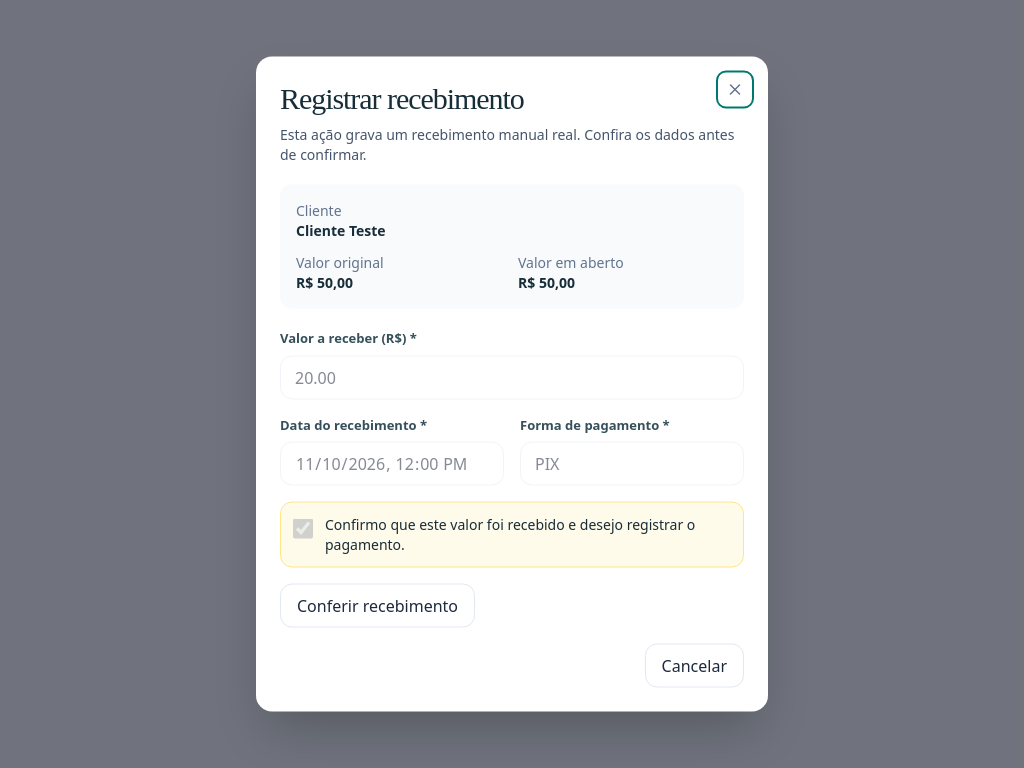
Test: recuperação segura do recebimento › exige persistência disponível também antes de repetir uma tentativa recuperada
Step 1. Click the button "Conferir recebimento" → {"x": 378, "y": 606}, box [280,584,475,628]
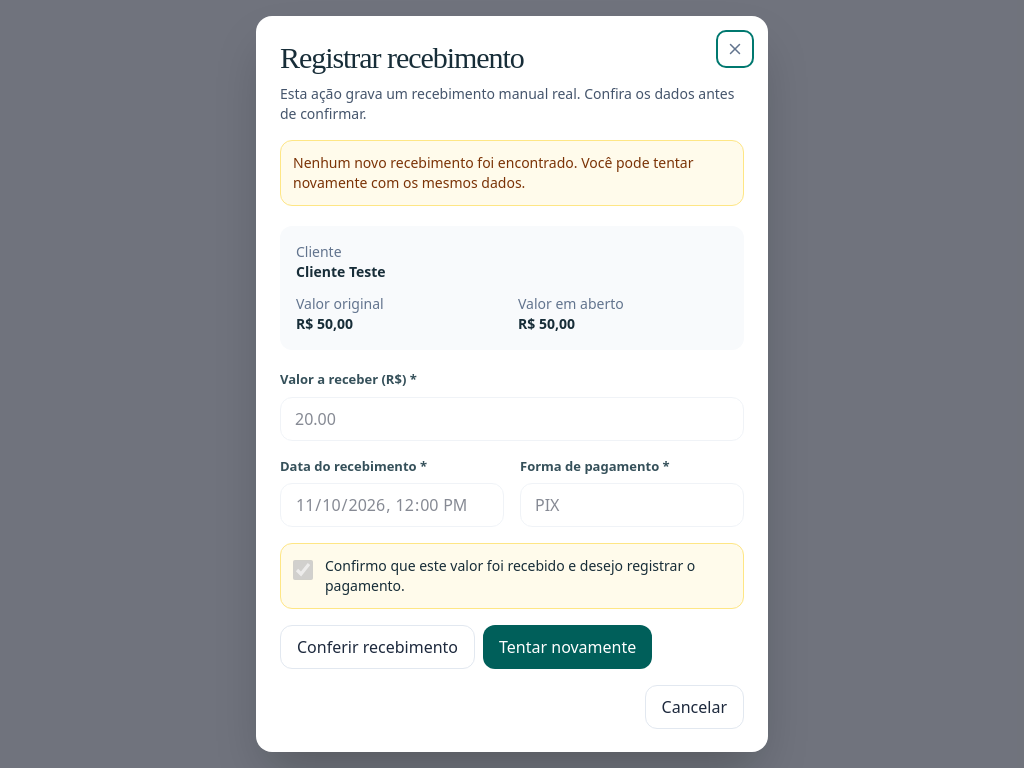
Expected: the button "Tentar novamente" is shown
Step 2. Click the button "Tentar novamente" → {"x": 568, "y": 647}, box [483,625,652,669]
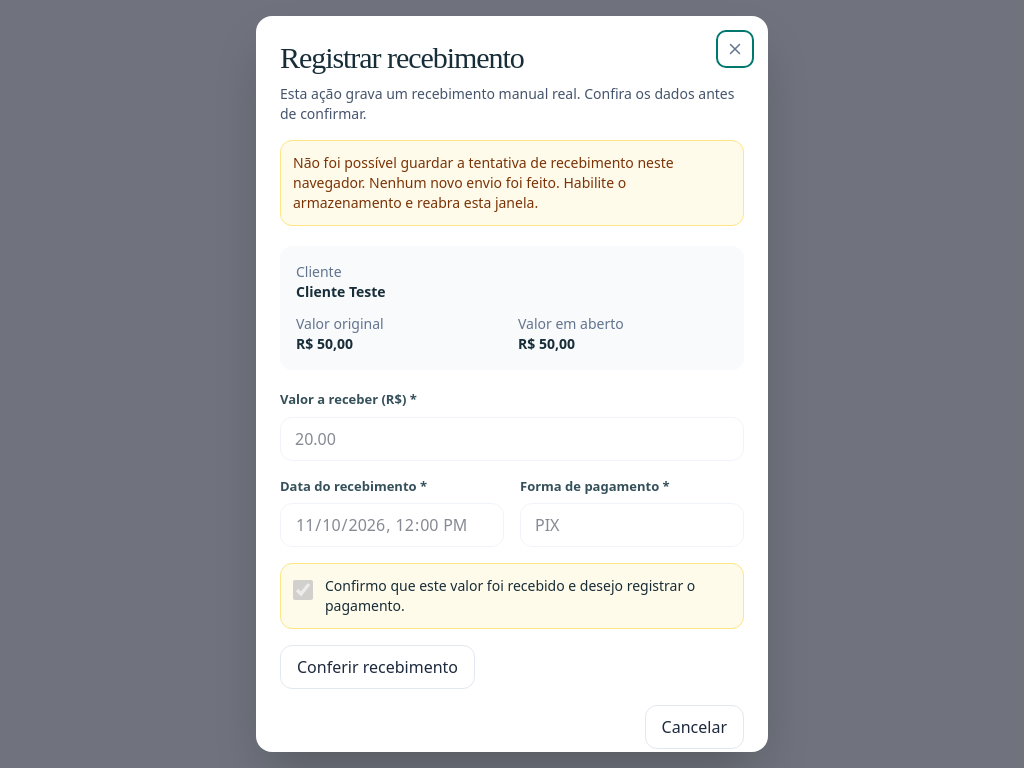
Expected: the text "Não foi possível guardar a tentativa" is shown, [293,153,674,212]
